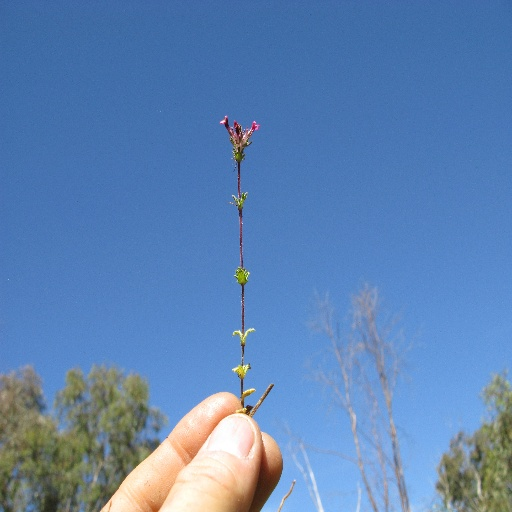hand: (97, 388, 284, 511)
